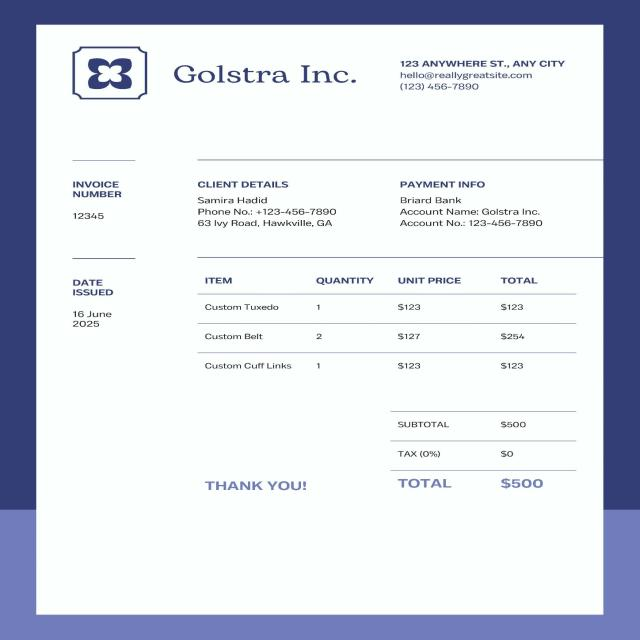paragraph: (69, 180, 546, 231), (388, 410, 580, 492), (165, 48, 366, 94), (398, 60, 566, 96), (203, 476, 308, 498)
table: (59, 272, 576, 381)
